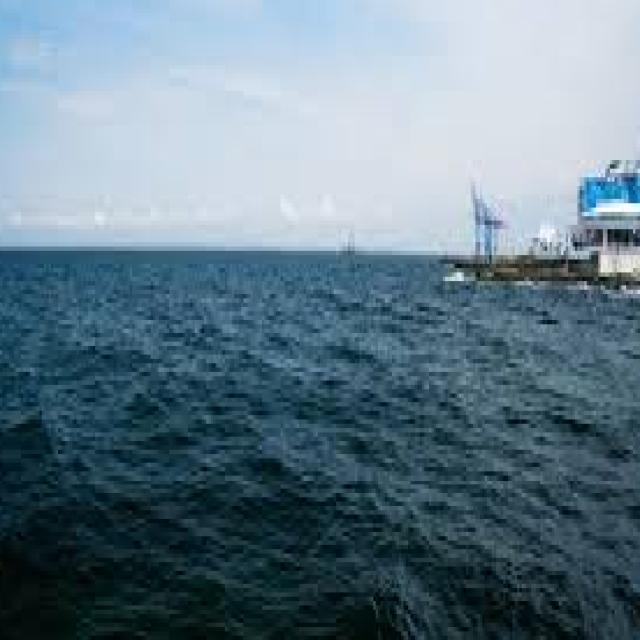fishing boat: (441, 125, 640, 293)
